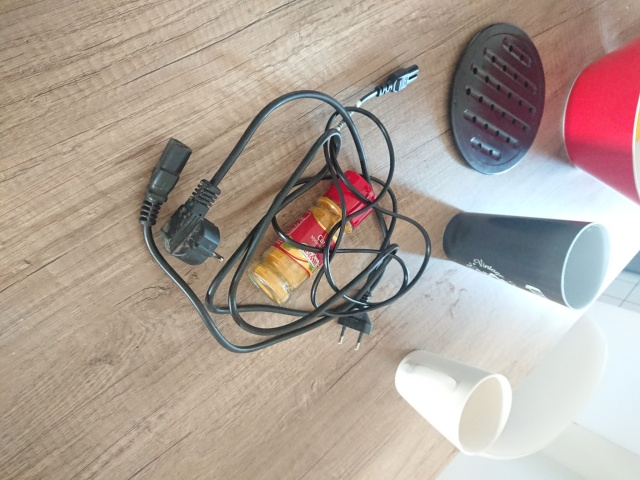Kotanyi Curry Spices Mix 70g: (243, 169, 380, 309)
